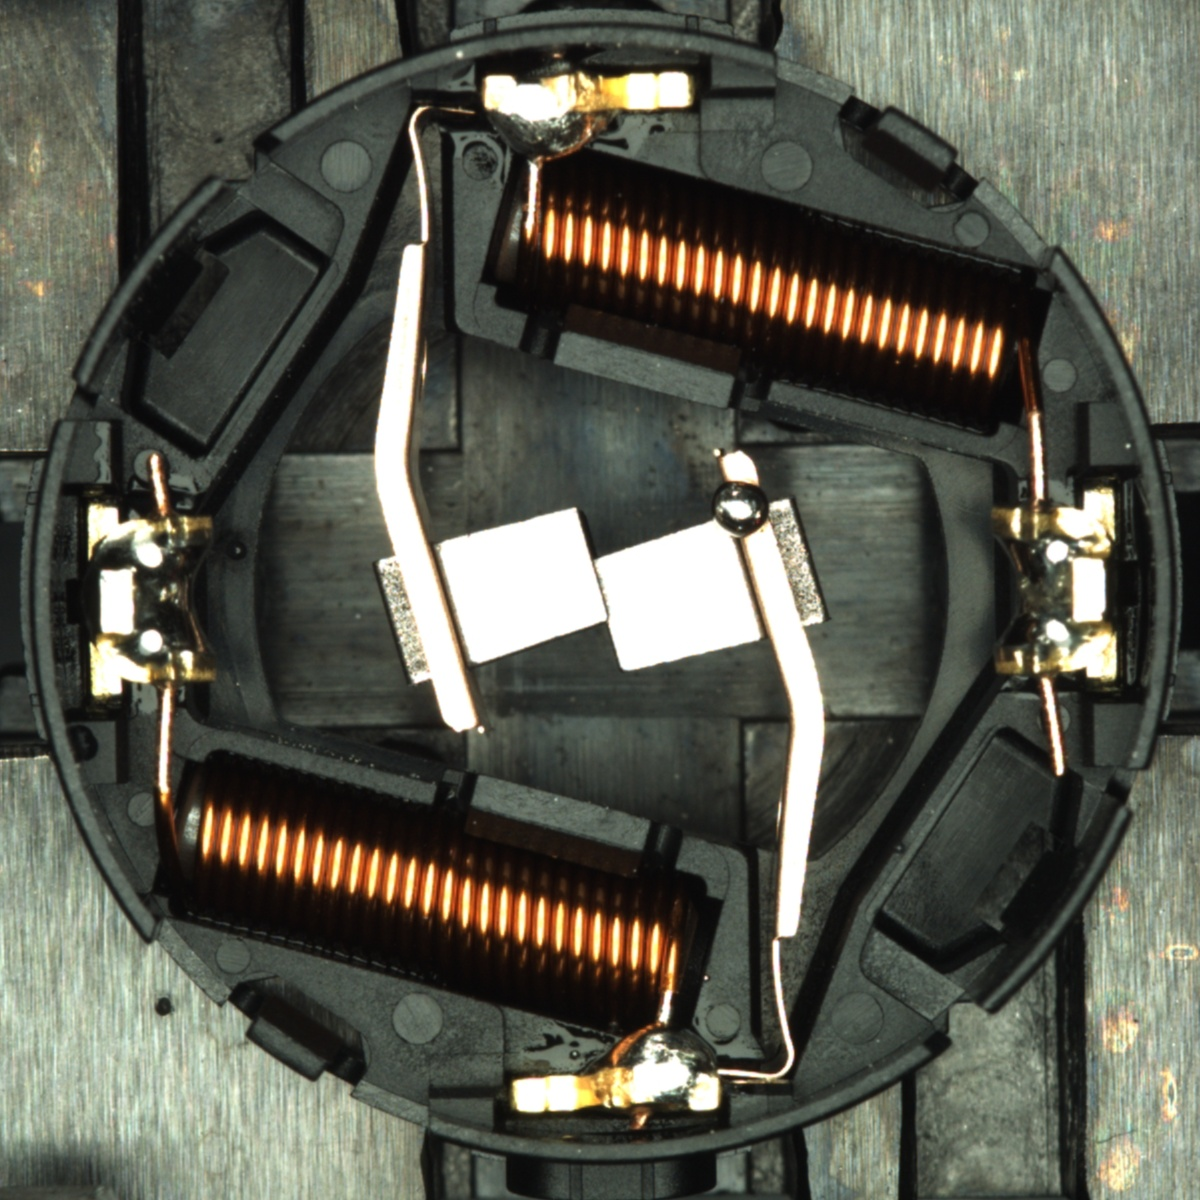1: (258, 55, 487, 279), (716, 953, 945, 1177)
2: (716, 55, 945, 279), (258, 953, 487, 1177)
3: (28, 279, 258, 504), (945, 728, 1175, 953)
4: (258, 279, 487, 504), (716, 728, 945, 953)
5: (487, 167, 716, 392), (487, 840, 716, 1065)
6: (716, 279, 945, 504), (258, 728, 487, 953)
7: (945, 279, 1175, 504), (28, 728, 258, 953)
chau_dien: (81, 497, 222, 701), (983, 488, 1123, 685)
hat_chi: (711, 481, 769, 535)
tay_choi: (482, 68, 697, 167), (509, 1019, 722, 1116)
thanh_de: (60, 165, 244, 404), (955, 791, 1140, 1028)
